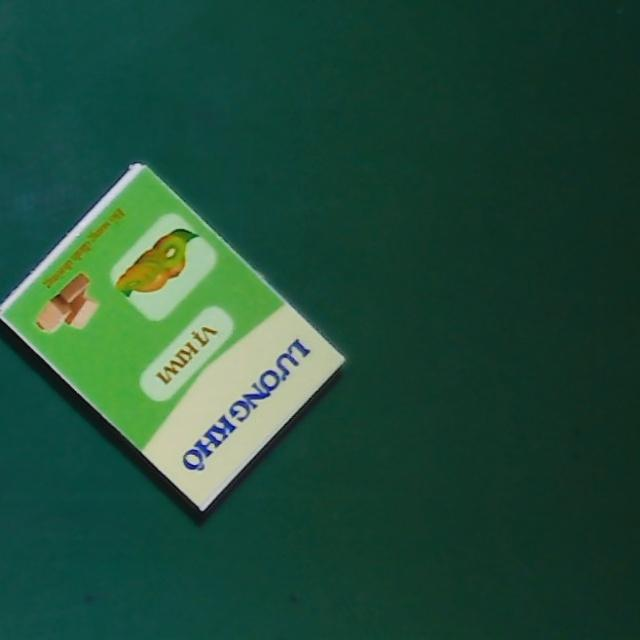kiwi: (0, 159, 349, 513)
